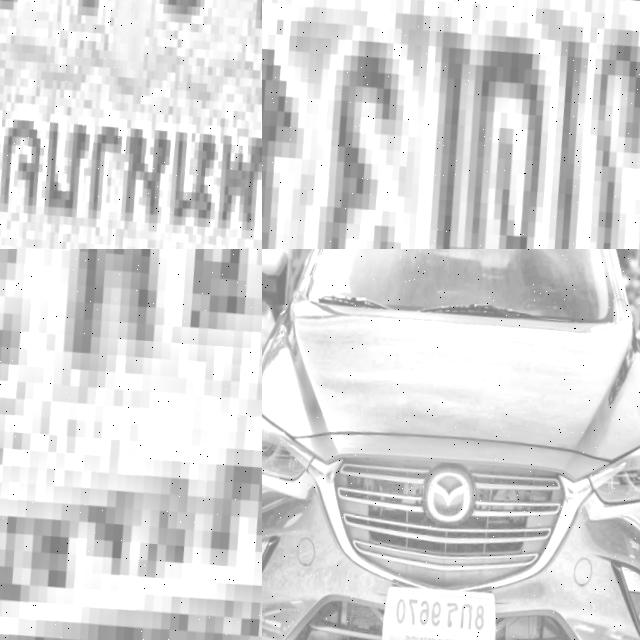license-plate: (0, 249, 262, 640), (262, 0, 640, 249), (0, 0, 262, 249), (368, 574, 498, 640)
